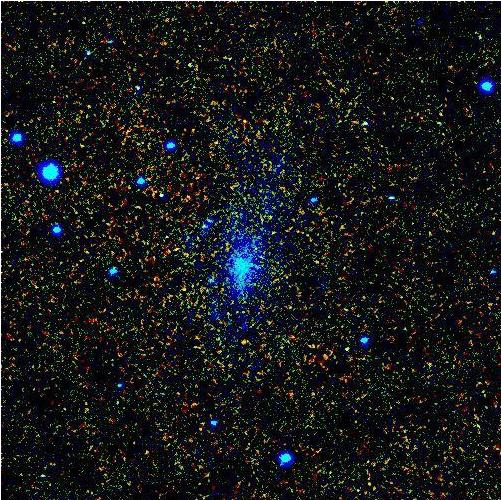star: (228, 325, 258, 355)
